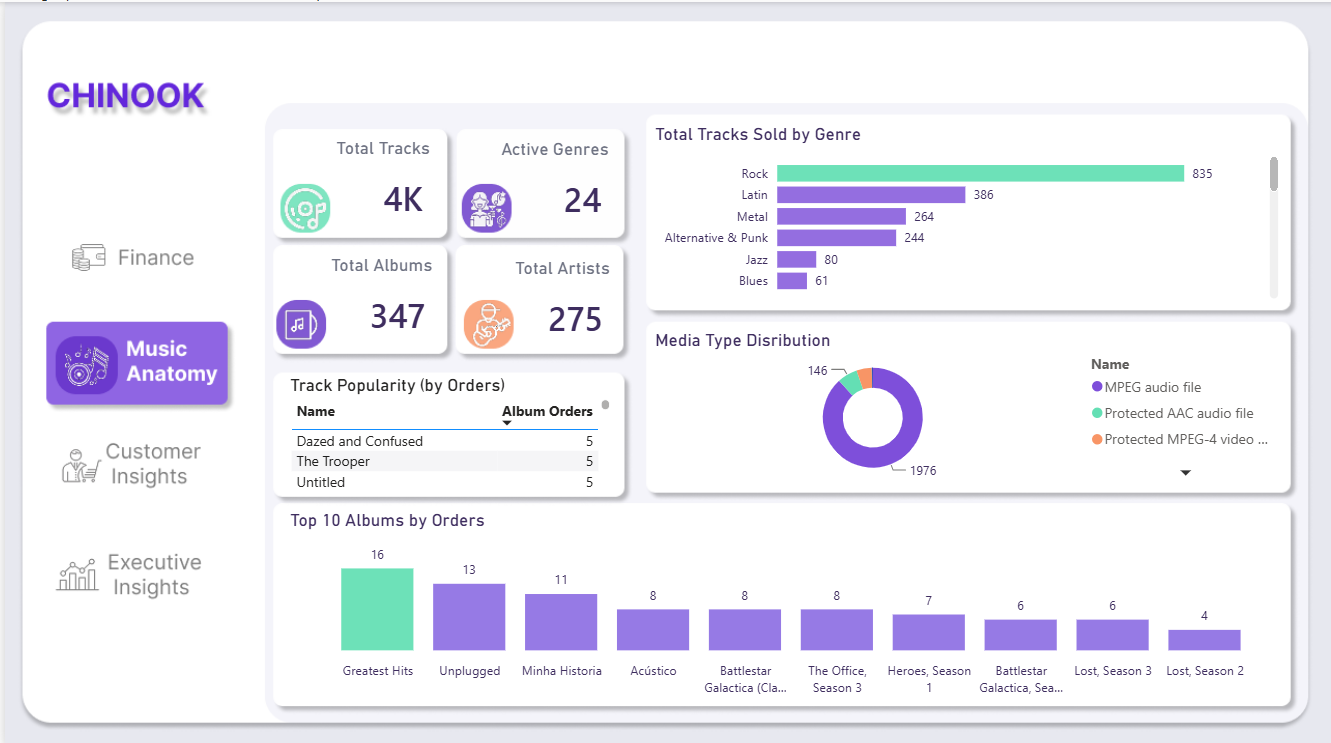

Layout of this report page (visuals, bound fields, positions):
{"tool":"powerbi","page":{"name":"music anatomy","canvas":[1280,720],"ordinal":1},"visuals":[{"type":"columnChart","title":"Top 10 Albums by Orders","fields":{"Category":["album.Title"],"Y":["_Measures.Album Orders"]},"box":[270,490,964.3,187.1],"z":0},{"type":"barChart","title":"Total Tracks Sold by Genre","fields":{"Category":["genre.Name"],"Y":["_Measures.Total Tracks Sold"]},"box":[622.9,117.1,611.4,174.3],"z":1000},{"type":"donutChart","title":"Media Type Disribution","fields":{"Category":["mediatype.Name"],"Y":["_Measures.Total Tracks Sold"]},"box":[622.9,315.7,611.4,151.4],"z":2000},{"type":"tableEx","title":"Track Popularity (by Orders)","fields":{"Values":["track.Name","_Measures.Album Orders"]},"box":[270,360,318.6,117.1],"z":3000},{"type":"cardVisual","title":"Total Tracks","fields":{"Data":["_Measures.Total Tracks"]},"box":[282.9,130,132.9,92.9],"z":4000},{"type":"cardVisual","title":"Active Genres","fields":{"Data":["_Measures.Active Genres"]},"box":[454.3,131.4,132.9,92.9],"z":5000},{"type":"cardVisual","title":"Total Albums","fields":{"Data":["_Measures.Total Albums"]},"box":[284.3,244.3,132.9,92.9],"z":6000},{"type":"cardVisual","title":"Total Artists","fields":{"Data":["_Measures.Total Artists"]},"box":[455.7,245.7,132.9,92.9],"z":7000},{"type":"actionButton","box":[36.5,304.2,185,87.6],"z":8000},{"type":"actionButton","box":[38.9,406.5,175.2,80.3],"z":9000},{"type":"actionButton","box":[38.9,509.9,175.2,80.3],"z":10000},{"type":"actionButton","box":[38.9,205.7,175.2,80.3],"z":11000}]}

Visuals, with their boxes in screenshot pixels (x1, y1, x2, y2), scaled from the page's 1280x720 canvas onto the 1331x743 screenshot:
"Top 10 Albums by Orders" columnChart: select_region(281, 506, 1283, 699)
"Total Tracks Sold by Genre" barChart: select_region(648, 121, 1283, 301)
"Media Type Disribution" donutChart: select_region(648, 326, 1283, 482)
"Track Popularity (by Orders)" tableEx: select_region(281, 372, 612, 492)
"Total Tracks" cardVisual: select_region(294, 134, 432, 230)
"Active Genres" cardVisual: select_region(472, 136, 611, 231)
"Total Albums" cardVisual: select_region(296, 252, 434, 348)
"Total Artists" cardVisual: select_region(474, 254, 612, 349)
actionButton: select_region(38, 314, 230, 404)
actionButton: select_region(40, 419, 223, 502)
actionButton: select_region(40, 526, 223, 609)
actionButton: select_region(40, 212, 223, 295)
